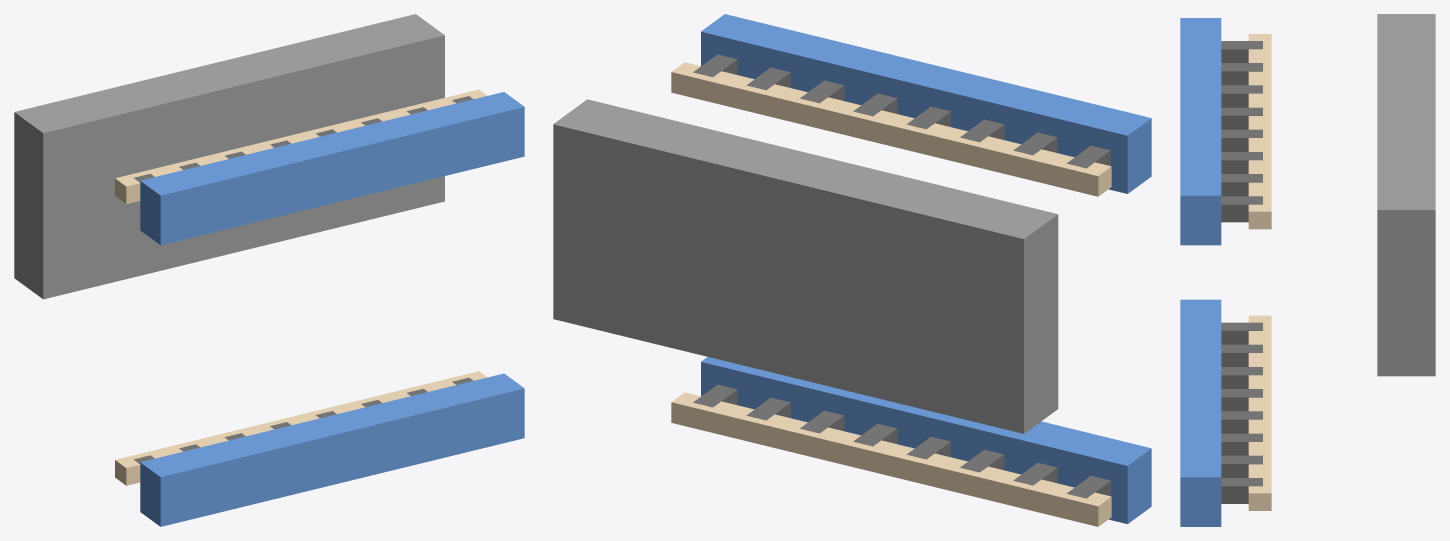
The model's file is sky130_fd_sc_hd__fill_8.gds.gltf.
3 renders of one model, left to right at view 1: azimuth 30°, elevation 25°; view 2: azimuth 150°, elevation 25°; view 3: azimuth 270°, elevation 25°, orthographic. The views are drawn at different scales.
Parts seen in each view (by area): view 1: sky130_fd_sc_hd__fill_8_nwell, sky130_fd_sc_hd__fill_8_met1, sky130_fd_sc_hd__fill_8_li1, sky130_fd_sc_hd__fill_8_mcon; view 2: sky130_fd_sc_hd__fill_8_nwell, sky130_fd_sc_hd__fill_8_met1, sky130_fd_sc_hd__fill_8_li1, sky130_fd_sc_hd__fill_8_mcon; view 3: sky130_fd_sc_hd__fill_8_nwell, sky130_fd_sc_hd__fill_8_met1, sky130_fd_sc_hd__fill_8_mcon, sky130_fd_sc_hd__fill_8_li1.
Part boxes in pixels (x1,y1,x2,y2): sky130_fd_sc_hd__fill_8_nwell: [14, 14, 444, 299]; sky130_fd_sc_hd__fill_8_met1: [140, 92, 524, 526]; sky130_fd_sc_hd__fill_8_li1: [115, 89, 487, 485]; sky130_fd_sc_hd__fill_8_mcon: [134, 96, 473, 463]; sky130_fd_sc_hd__fill_8_nwell: [553, 99, 1058, 433]; sky130_fd_sc_hd__fill_8_met1: [701, 14, 1151, 523]; sky130_fd_sc_hd__fill_8_li1: [671, 62, 1111, 526]; sky130_fd_sc_hd__fill_8_mcon: [693, 54, 1110, 498]; sky130_fd_sc_hd__fill_8_nwell: [1377, 14, 1435, 376]; sky130_fd_sc_hd__fill_8_met1: [1180, 18, 1221, 526]; sky130_fd_sc_hd__fill_8_mcon: [1221, 41, 1262, 503]; sky130_fd_sc_hd__fill_8_li1: [1248, 34, 1271, 510].
Size of the model in its own units: 4.06 by 3.2 by 2.24.
